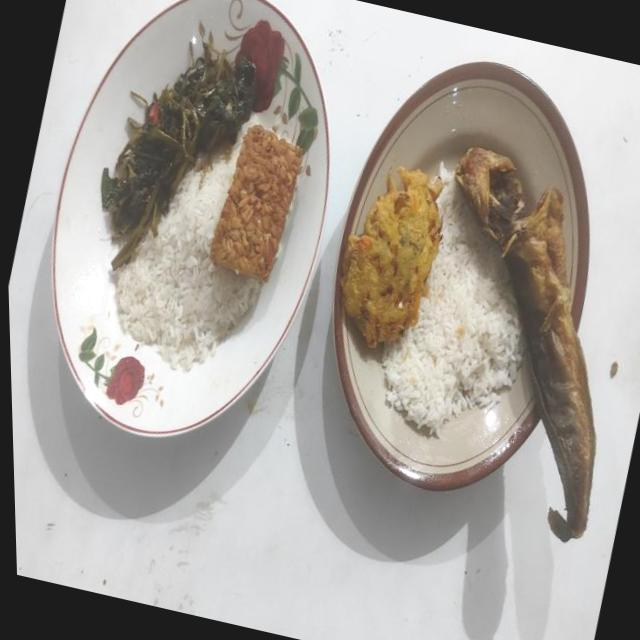nasi_putih: (382, 162, 524, 436), (114, 141, 261, 372)
tempe_goreng: (210, 125, 302, 281)
tumis_kangkung: (101, 42, 255, 269)
